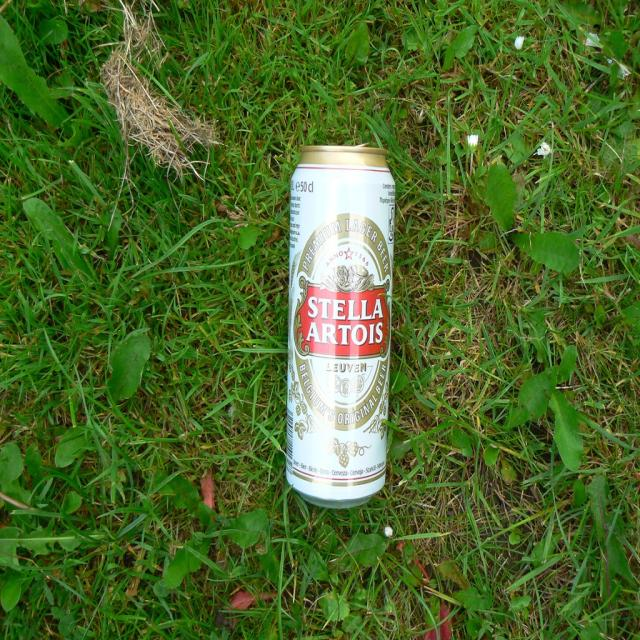stellaartois: (293, 211, 393, 433)
